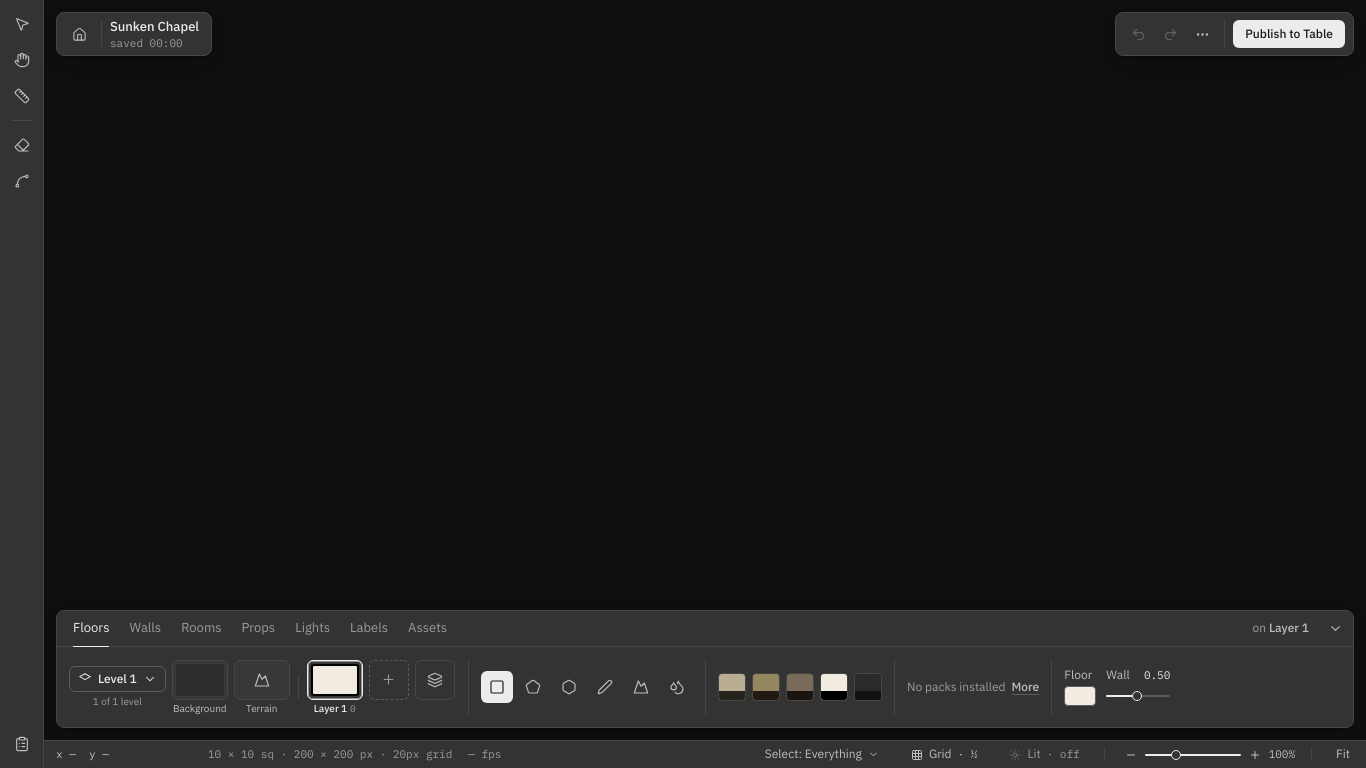
Scenario: opening the Packs sheet › from the Props browser header
Step 1. Click the tab with test id "v2-dock-tab-assets" → {"x": 428, "y": 628}, box x1=400 y1=611 x2=455 y2=646
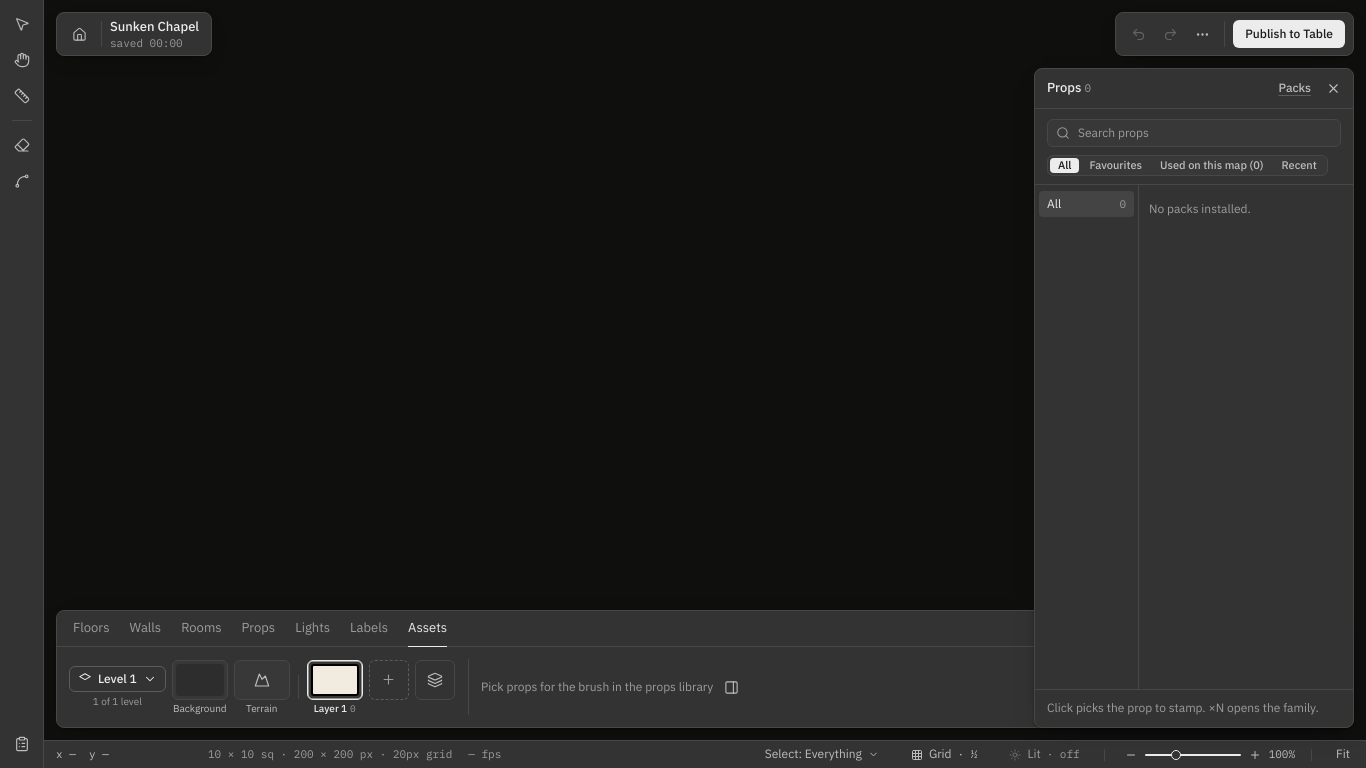
Step 2. Click the button with test id "v2-props-packs" → {"x": 1295, "y": 88}, box x1=1278 y1=80 x2=1311 y2=97
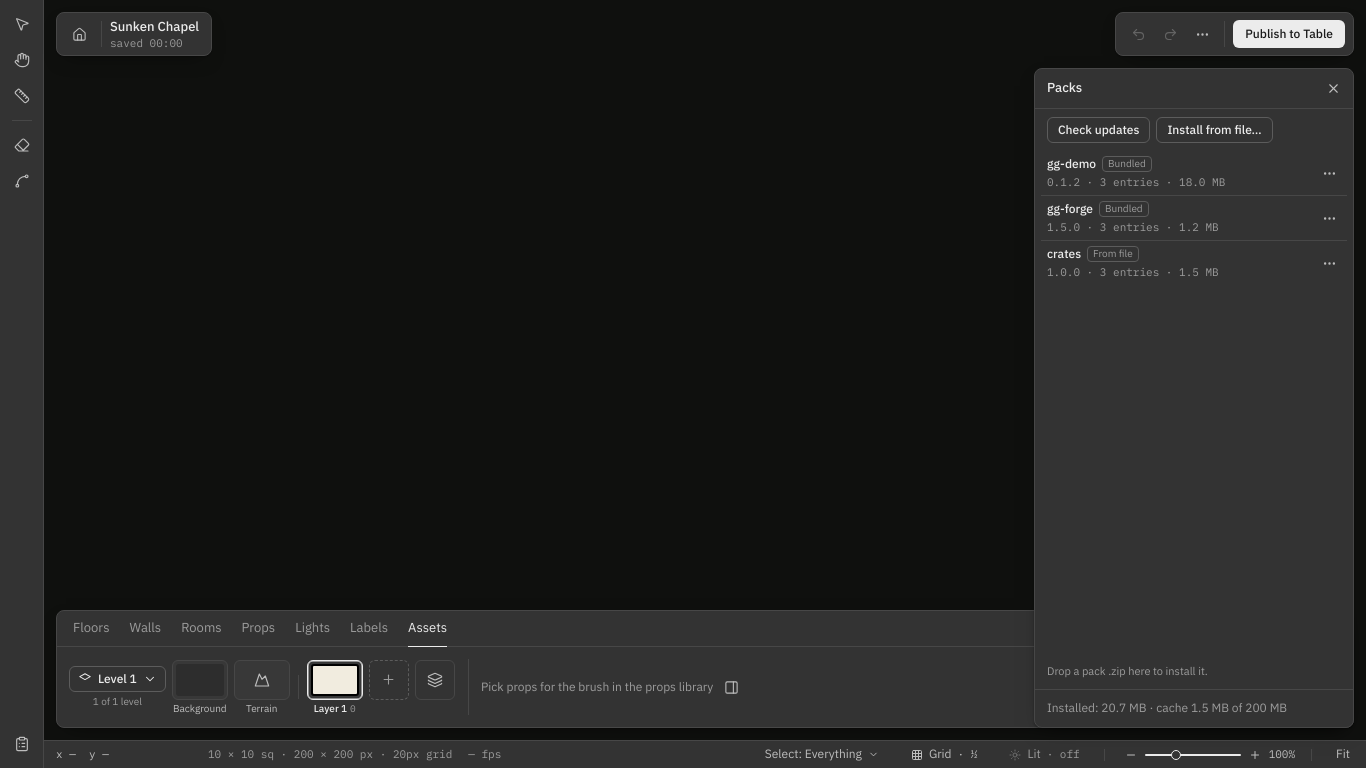
Expected: the element with test id "v2-packs-sheet" is shown, x1=1034 y1=68 x2=1354 y2=728
Expected: the element with test id "v2-props-sheet" is gone
